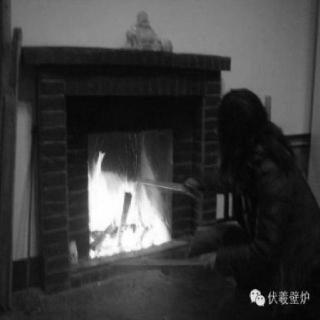Fire: (85, 147, 172, 265)
